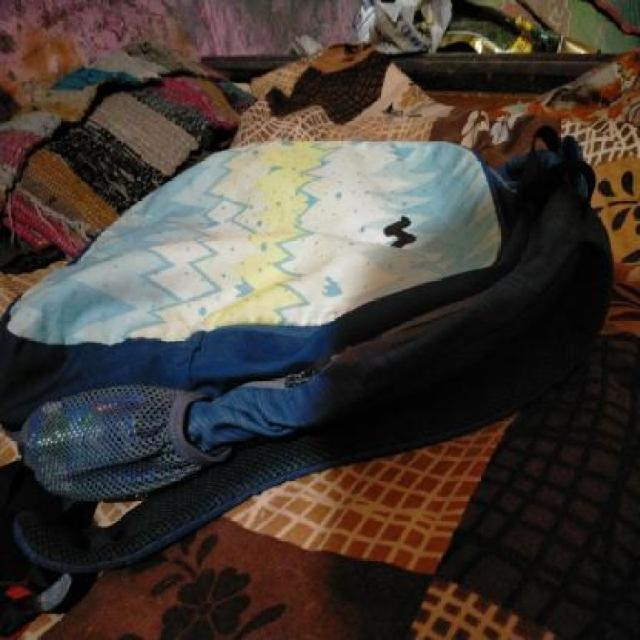backpack: (0, 117, 620, 578)
